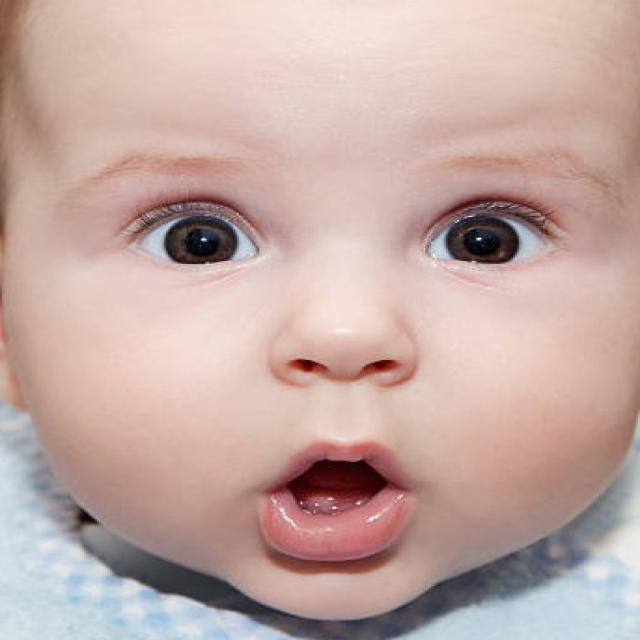Anxiety: (0, 3, 638, 620)
